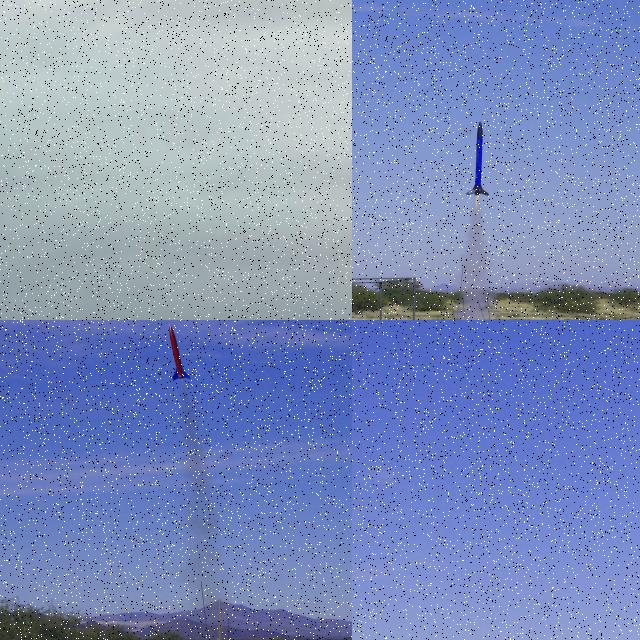Rocket: (465, 122, 490, 196), (168, 323, 192, 382)
